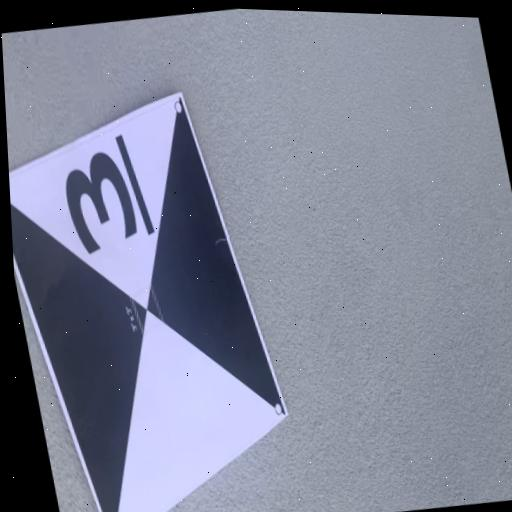target3: (9, 89, 289, 512)
